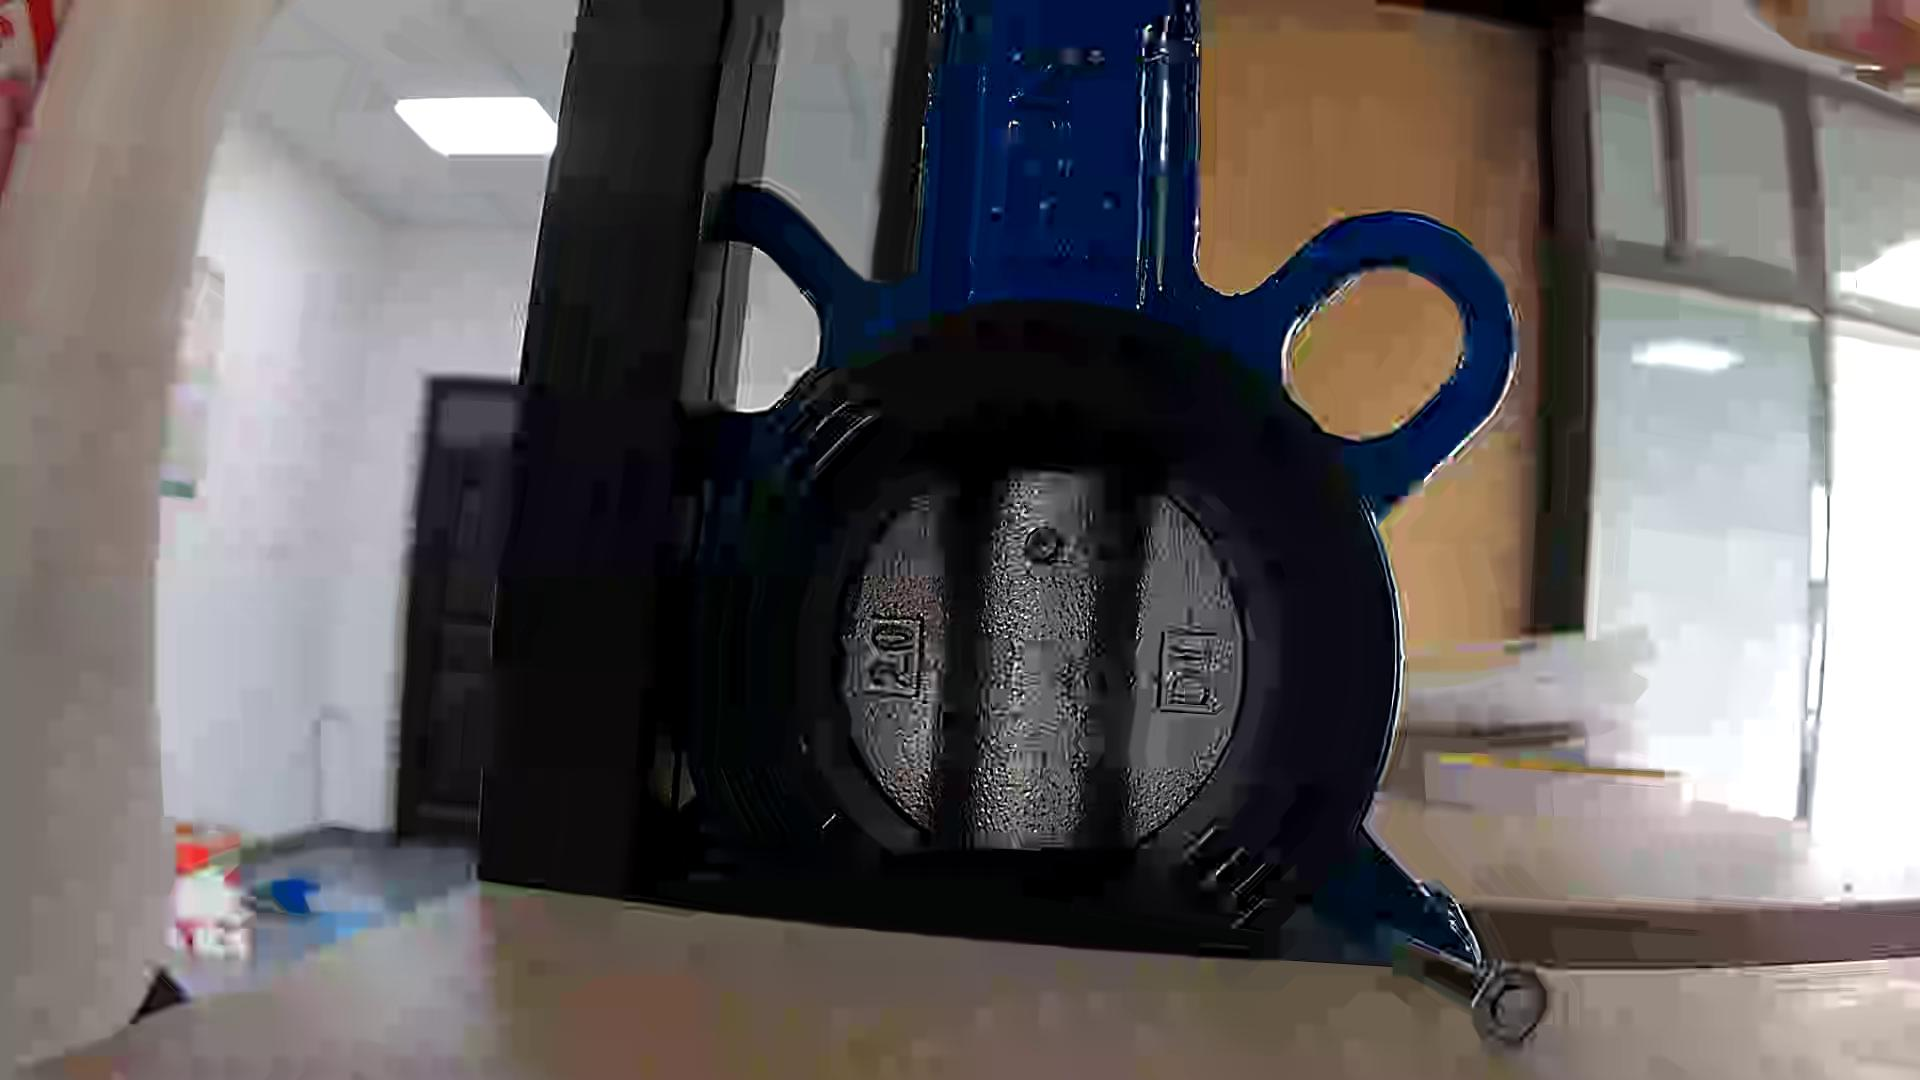valve: (847, 472, 1243, 848)
